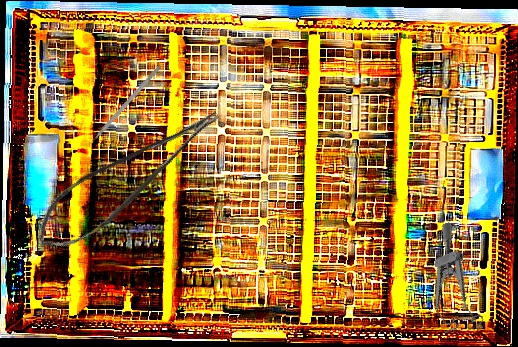Chopper: (79, 61, 162, 151)
Micro Scissor: (22, 103, 241, 261)
Speculum: (405, 221, 494, 343)
